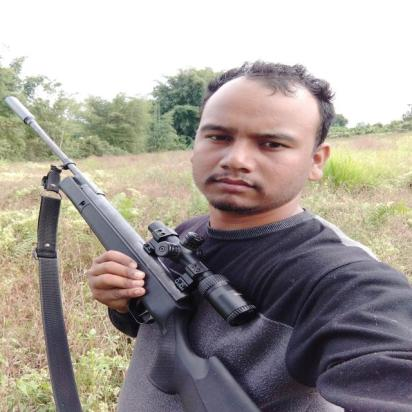Gun: (2, 94, 264, 412)
